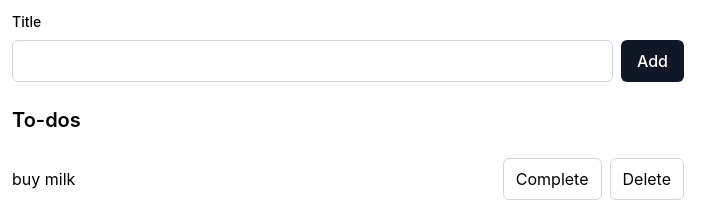
Test: TodoItem › completes through the API and renders the refetched completed row
Click the button with aria-label "Complete buy milk": [552, 179] box [503, 158, 602, 200]
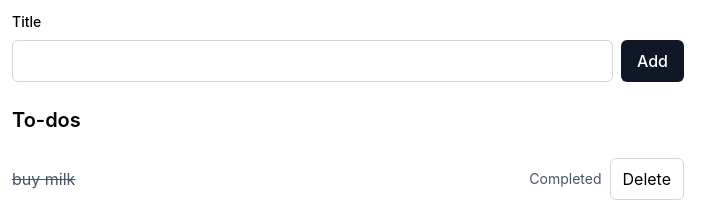
Expected: the text "Completed" is shown, [529, 169, 602, 189]
